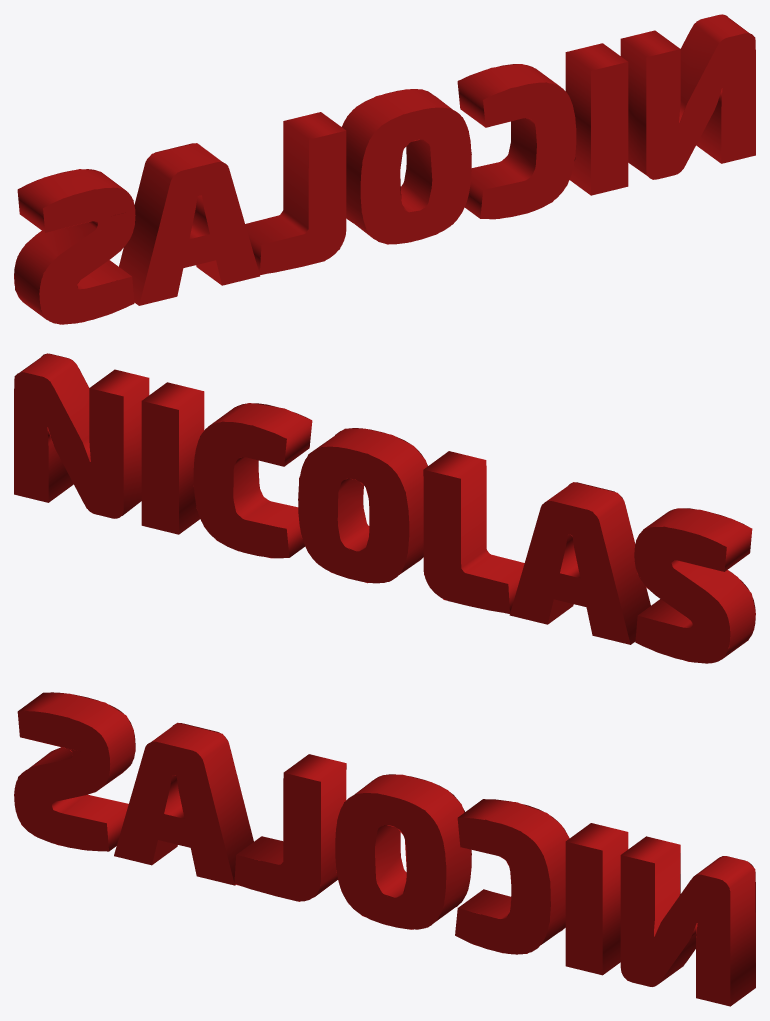
File: nicolas.fbx
3 views of the same model, one above another, from view 1: azimuth 30°, elevation 25°; view 2: azimuth 150°, elevation 25°; view 3: azimuth 330°, elevation 25° (orthographic).
Parts seen in each view (by area): view 1: Text; view 2: Text; view 3: Text.
Boxes of the visible parts, x1=… form: Text: x1=14, y1=14, x2=755, y2=324; Text: x1=14, y1=353, x2=755, y2=663; Text: x1=14, y1=692, x2=755, y2=1006.
Size of the model in its own units: 12.98 by 2.26 by 0.8.
